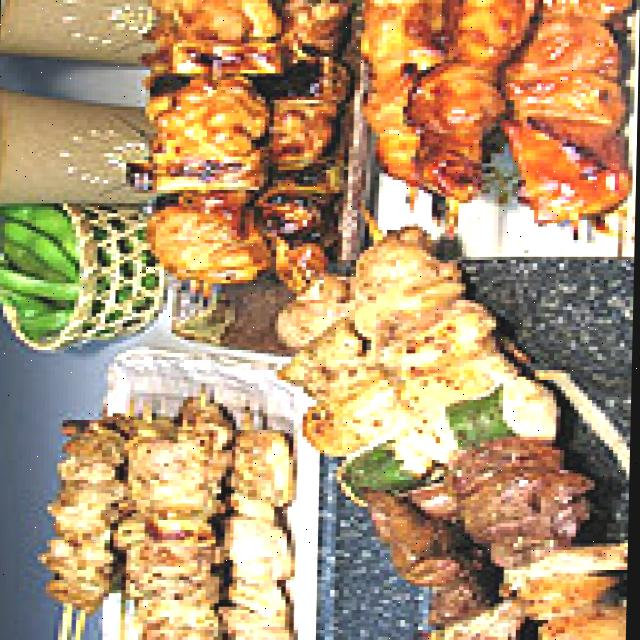烧串烤肉: (113, 0, 640, 640)
